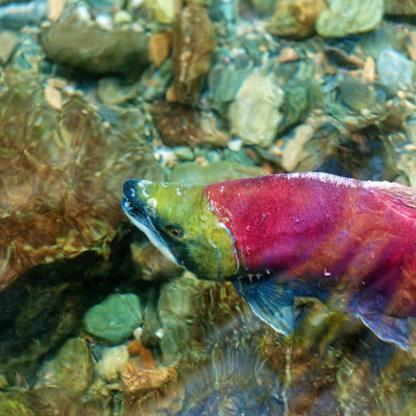sockeye: (121, 152, 416, 332)
